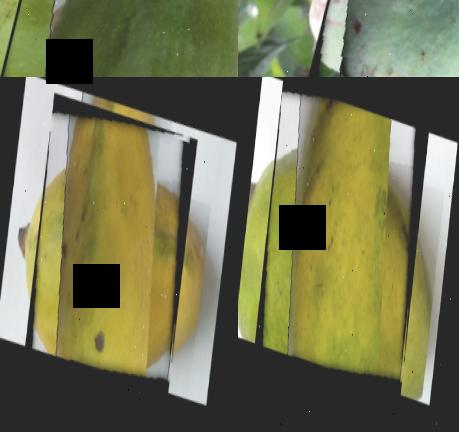PartiallyRipe: (254, 77, 428, 414)
Ripe: (25, 81, 196, 410)
Unripe: (0, 0, 238, 77), (305, 0, 459, 77)
